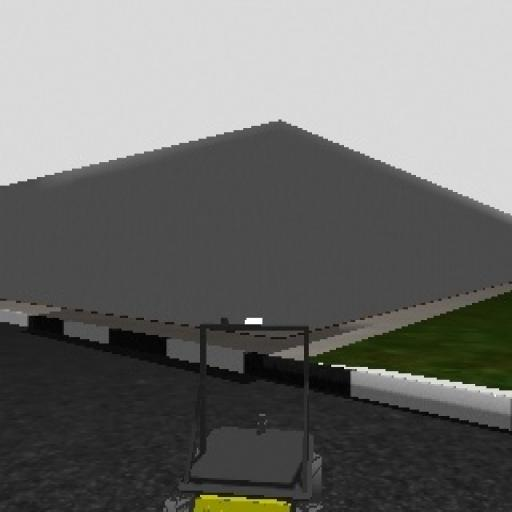huskya200: (166, 310, 323, 512)
